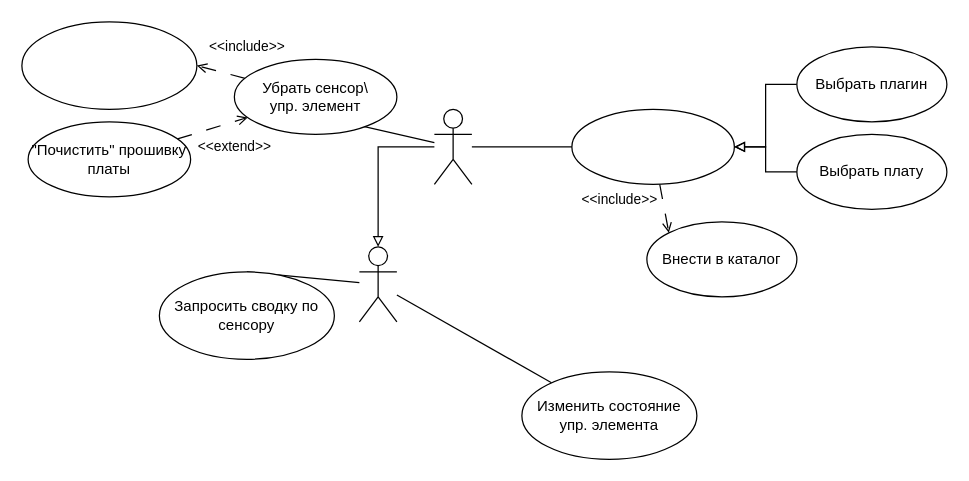
Image size: 969x481. Some labels were removed from this diagram. The box of each missing label's shape, as (x1, y1, x2, y2) in pixels:
Администратор: (433, 108, 472, 184)
Добавить сенсор\ упр. элемент: (571, 108, 734, 184)
Пользователь: (358, 246, 397, 322)
Удалить из каталога: (21, 21, 197, 109)
